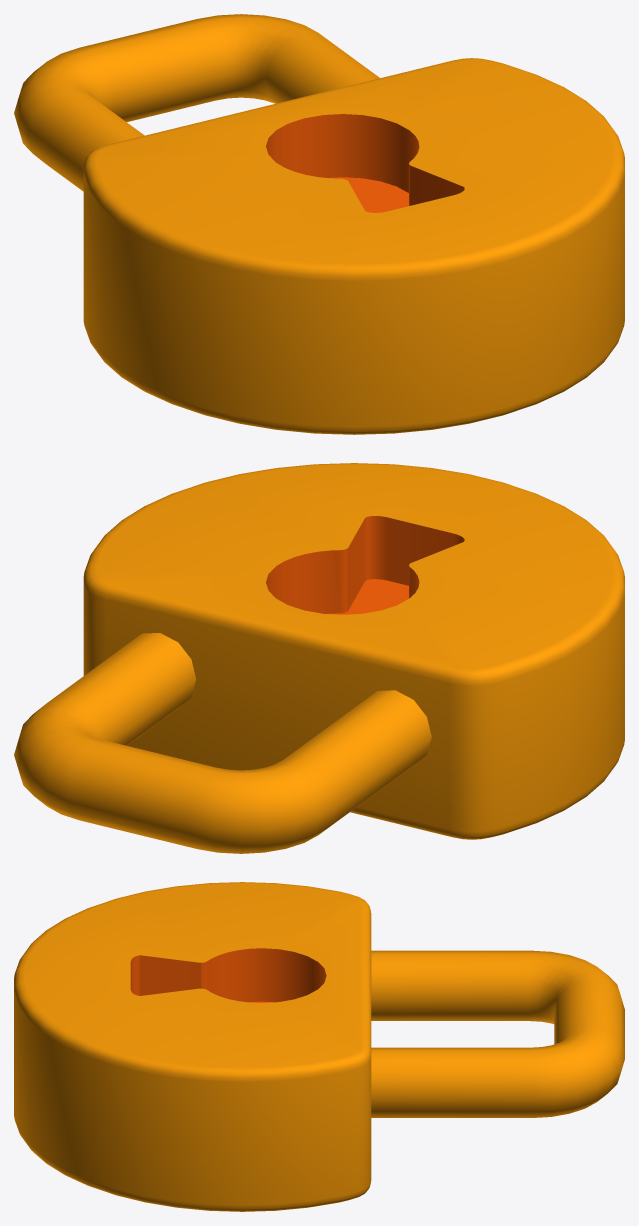
The model's file is Lock_rounded.fbx.
3 renders of one model, top to bottom at view 1: azimuth 30°, elevation 25°; view 2: azimuth 150°, elevation 25°; view 3: azimuth 270°, elevation 25°, orthographic. The views are drawn at different scales.
Visible parts, largest first — view 1: Lock_Rounded; view 2: Lock_Rounded; view 3: Lock_Rounded.
Boxes of the visible parts, left/top/right/bottom form: Lock_Rounded: left=14, top=14, right=624, bottom=434; Lock_Rounded: left=14, top=463, right=624, bottom=853; Lock_Rounded: left=14, top=882, right=624, bottom=1211.
Bounding box in the file's own units: 19.45 × 6.68 × 25.94.
